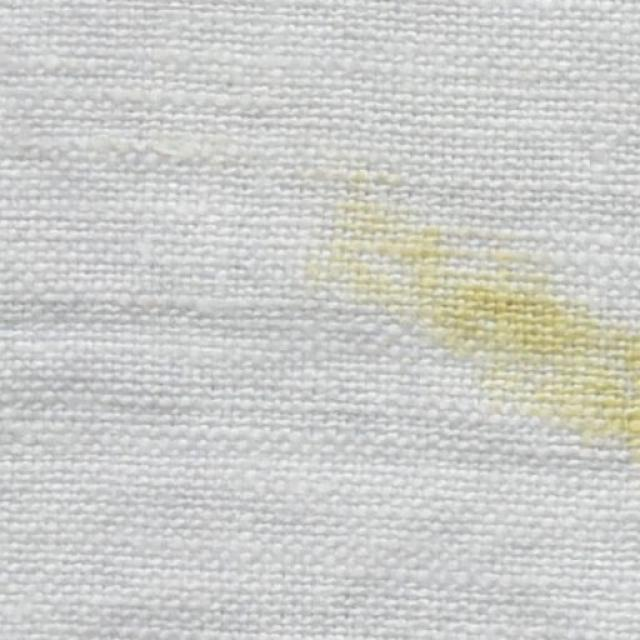Stain: (329, 184, 639, 455)
